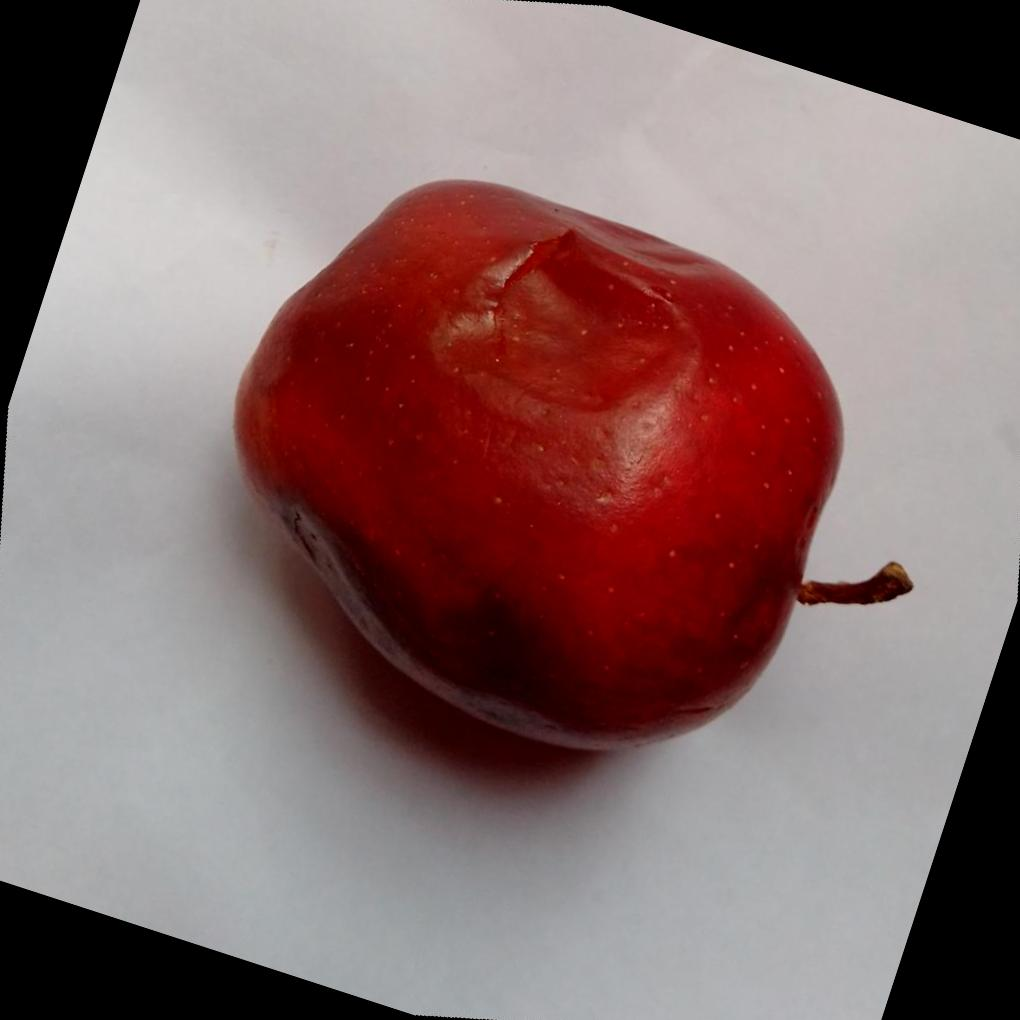FreshOrange: (229, 179, 903, 756)
